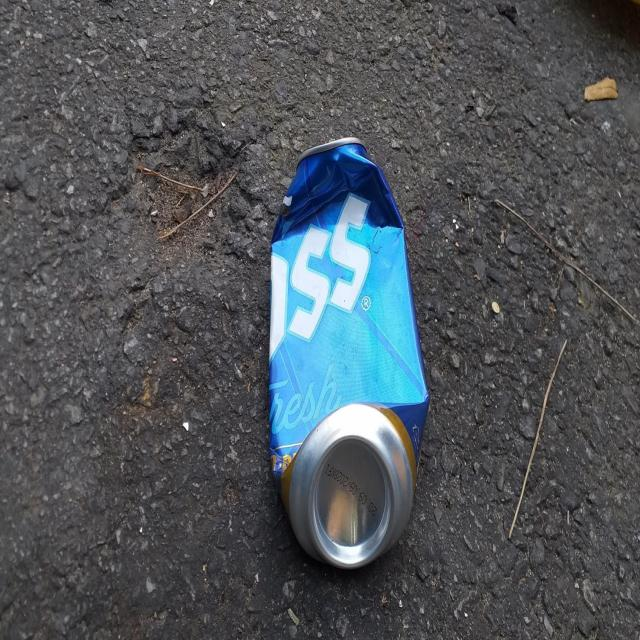can: (269, 136, 430, 568)
